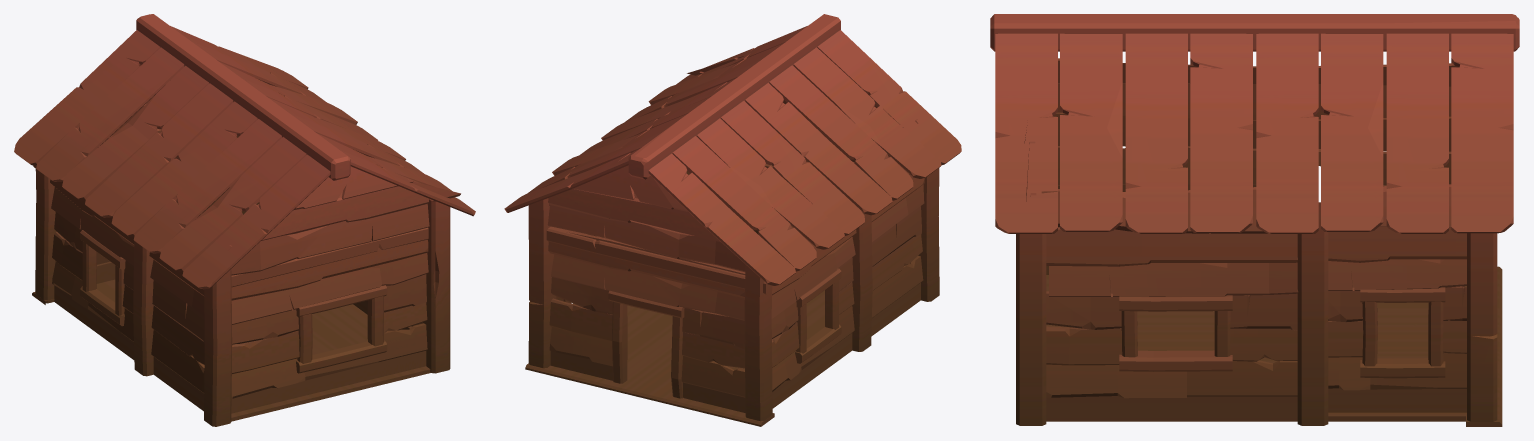
The picture shows the model from 3 angles, left to right: view 1: azimuth 30°, elevation 25°; view 2: azimuth 150°, elevation 25°; view 3: azimuth 270°, elevation 25°; orthographic projection. The views are drawn at different scales.
Visible parts, largest first — view 1: WoodenHouse3; view 2: WoodenHouse3; view 3: WoodenHouse3.
Part boxes in pixels (<box>): WoodenHouse3: <box>14,14,475,426</box>; WoodenHouse3: <box>504,14,961,426</box>; WoodenHouse3: <box>990,14,1519,426</box>.
Size of the model in its own units: 355 by 300 by 435.
Materials: 1 (1 with a texture image).
